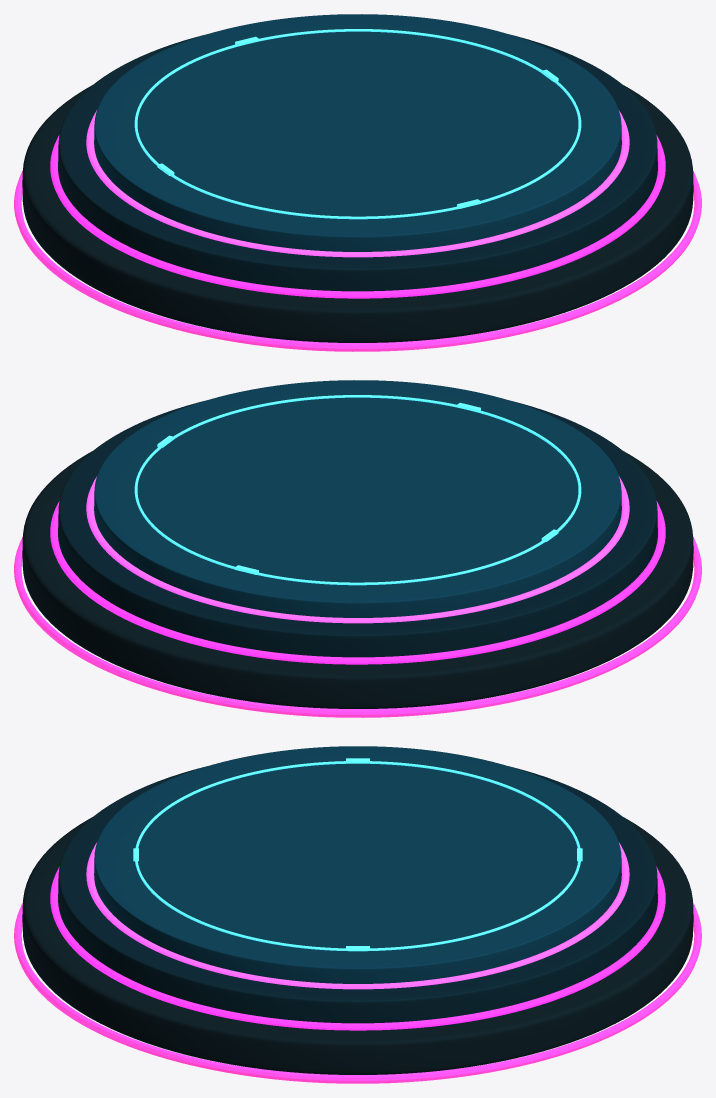
File: CentralPlatform_Final.fbx
3 renders of one model, top to bottom at view 1: azimuth 30°, elevation 25°; view 2: azimuth 150°, elevation 25°; view 3: azimuth 270°, elevation 25°, orthographic.
Parts seen in each view (by area): view 1: Platform_Top, Platform_Base, Platform_Middle, Platform_NeonRing_Base, Platform_NeonRing_Middle, Platform_NeonRing_Top, Platform_Top_Ring; view 2: Platform_Top, Platform_Base, Platform_Middle, Platform_NeonRing_Base, Platform_NeonRing_Middle, Platform_NeonRing_Top, Platform_Top_Ring; view 3: Platform_Top, Platform_Base, Platform_Middle, Platform_NeonRing_Base, Platform_NeonRing_Middle, Platform_NeonRing_Top, Platform_Top_Ring.
Boxes of the visible parts, x1,y1,x2,y2 form: Platform_Top: [94, 14, 621, 251]; Platform_Base: [22, 85, 693, 342]; Platform_Middle: [58, 35, 657, 291]; Platform_NeonRing_Base: [14, 170, 701, 351]; Platform_NeonRing_Middle: [50, 135, 665, 298]; Platform_NeonRing_Top: [86, 110, 629, 257]; Platform_Top_Ring: [134, 29, 581, 219]; Platform_Top: [94, 380, 621, 617]; Platform_Base: [22, 451, 693, 708]; Platform_Middle: [58, 401, 657, 657]; Platform_NeonRing_Base: [14, 536, 701, 717]; Platform_NeonRing_Middle: [50, 501, 665, 664]; Platform_NeonRing_Top: [86, 476, 629, 623]; Platform_Top_Ring: [134, 395, 581, 585]; Platform_Top: [94, 746, 621, 983]; Platform_Base: [22, 817, 693, 1074]; Platform_Middle: [58, 767, 657, 1023]; Platform_NeonRing_Base: [14, 902, 701, 1083]; Platform_NeonRing_Middle: [50, 866, 665, 1030]; Platform_NeonRing_Top: [86, 842, 629, 989]; Platform_Top_Ring: [135, 761, 580, 951].
Size of the model in its own units: 143 by 19.8 by 143.
